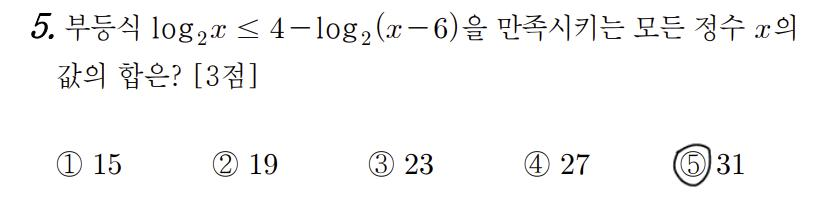1: (671, 142, 714, 189)
paper: (52, 146, 85, 180), (210, 146, 243, 180), (364, 147, 397, 181), (519, 146, 552, 180), (676, 145, 709, 179)
